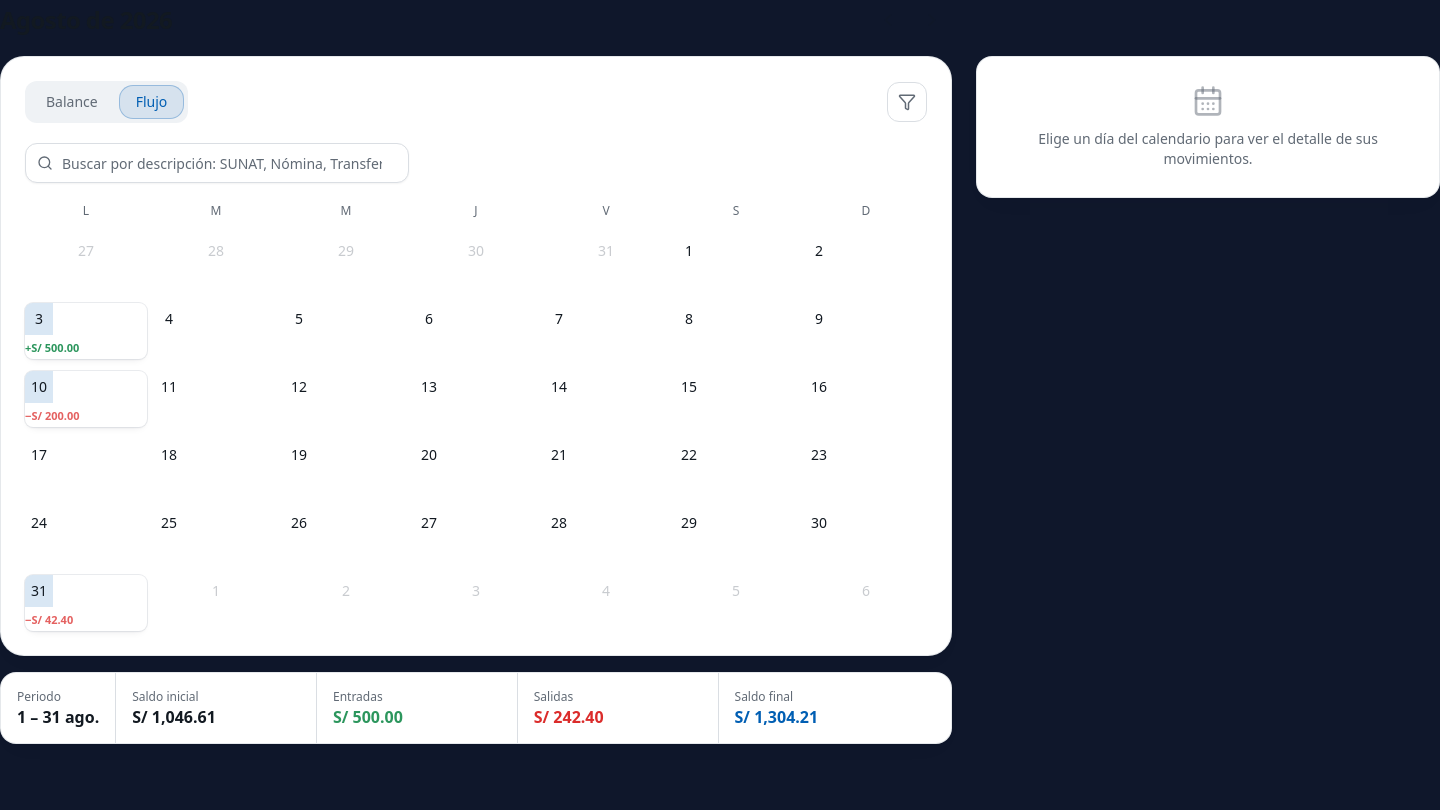
Test case: FinancialCalendarView › filtra por banco desde el menú del embudo y cuenta los bancos elegidos
This screenshot has width=1440, height=810.
Step 1. Click the button named "Filtrar por banco (todos)" → [907, 102], box [887, 82, 927, 122]
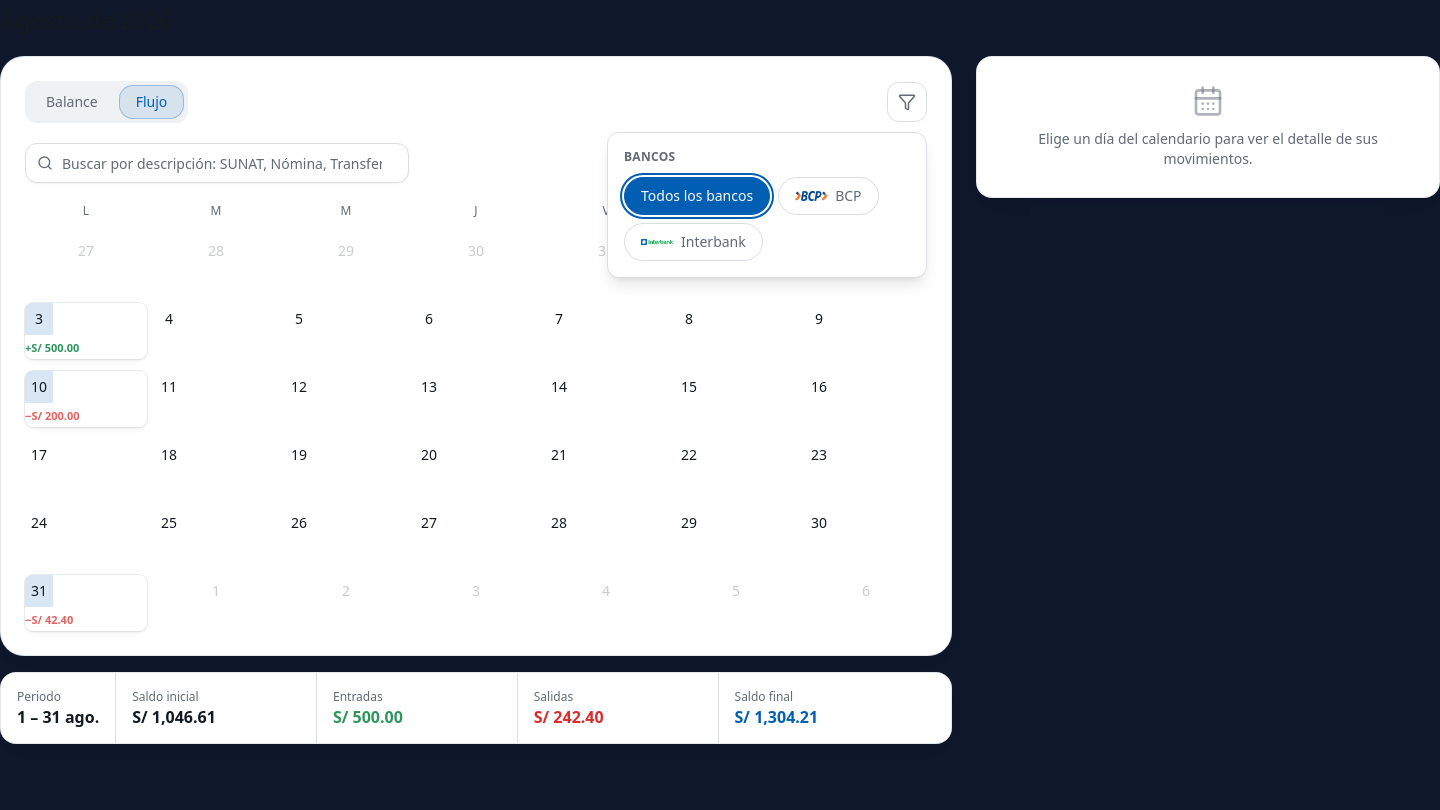
Step 2. Click the button "BCP" → [828, 196], box [778, 177, 878, 215]
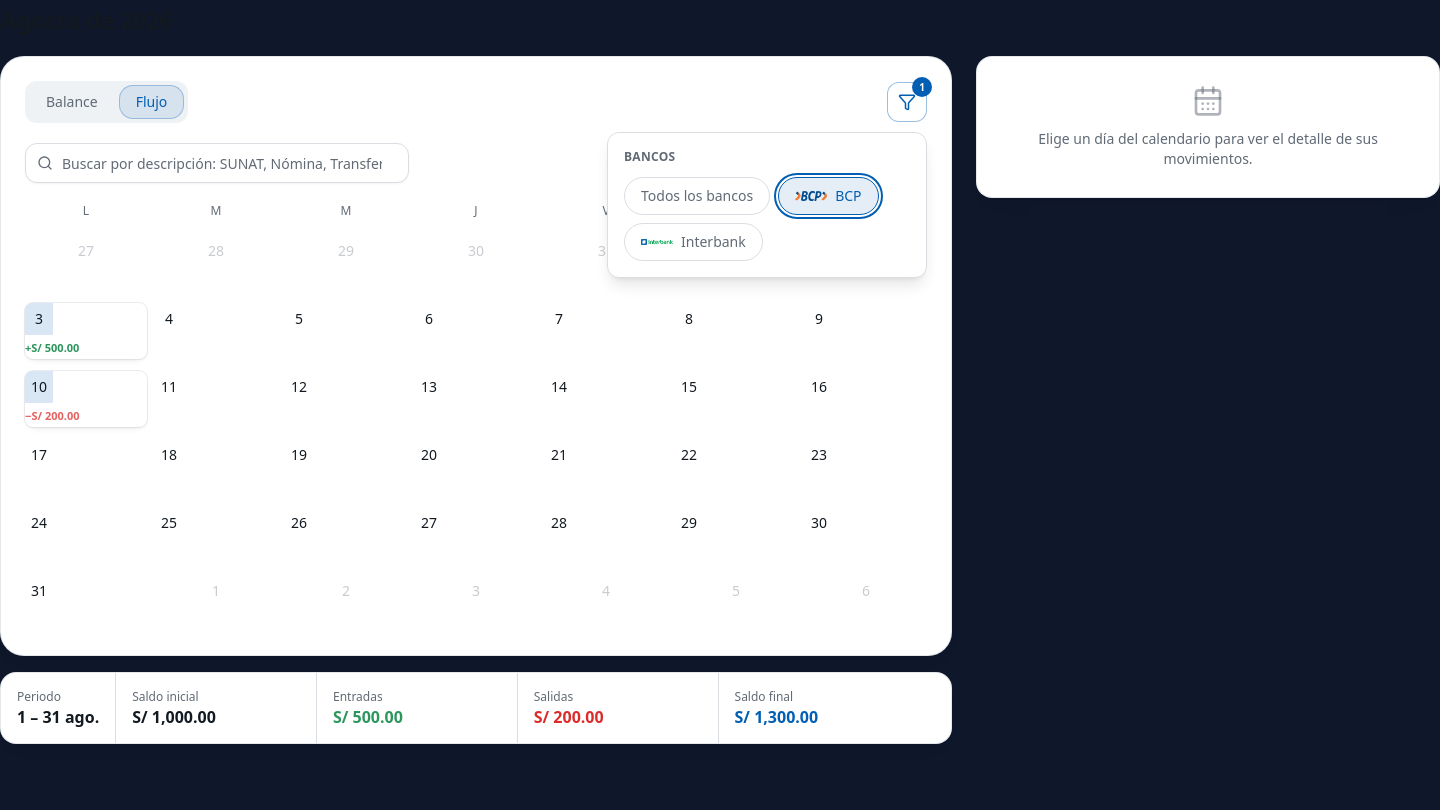
Expected: the button named "Filtrar por banco (1 seleccionado)" is shown, [887, 82, 927, 122]
